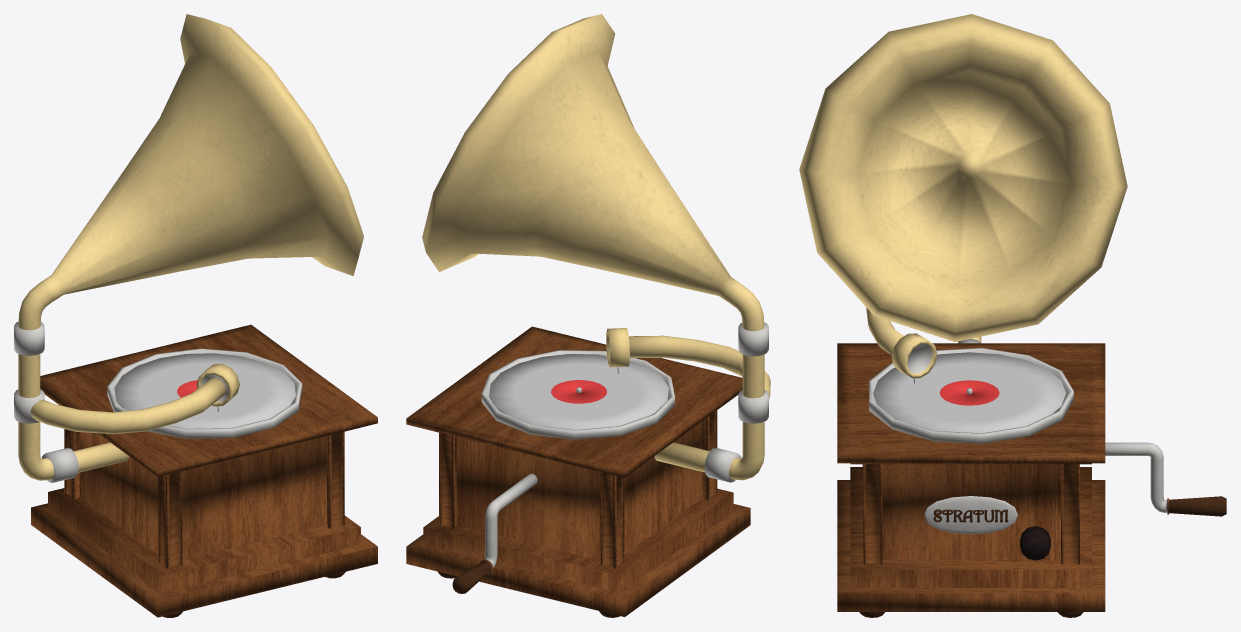
Rendered from Gramofono_Prueba_Cel_Shading.fbx.
3 renders of one model, left to right at view 1: azimuth 30°, elevation 25°; view 2: azimuth 150°, elevation 25°; view 3: azimuth 270°, elevation 25°, orthographic. The views are drawn at different scales.
Parts seen in each view (by area): view 1: Campana, Base, Vinilo, Tubo_Aguja, Soporte_Vinilo, Pilar_1.003, Pilar_1, Soporte_aguja, Union_up, Union_Down, Pilar_1.002, Union_Central; view 2: Campana, Base, Vinilo, Soporte_Vinilo, Tubo_Aguja, Pilar_1.002, Manivela, Pilar_1.001, Soporte_aguja, Pilar_1.003, Union_up, Union_Central (+1 smaller); view 3: Campana, Base, Vinilo, Soporte_Vinilo, Manivela, Chapa, Pilar_1, Pilar_1.001, Soporte_aguja, Rueda_Volumen, Tubo_Aguja, Text.004.
Part boxes in pixels (<box>): Campana: <box>18,14,363,480</box>; Base: <box>31,324,377,617</box>; Vinilo: <box>114,353,295,428</box>; Tubo_Aguja: <box>30,378,225,434</box>; Soporte_Vinilo: <box>107,348,302,438</box>; Pilar_1.003: <box>158,471,182,568</box>; Pilar_1: <box>327,431,344,528</box>; Soporte_aguja: <box>196,363,239,406</box>; Union_up: <box>14,321,44,355</box>; Union_Down: <box>41,448,78,482</box>; Pilar_1.002: <box>64,429,79,499</box>; Union_Central: <box>14,389,44,423</box>; Campana: <box>422,14,764,480</box>; Base: <box>406,326,750,616</box>; Vinilo: <box>489,354,668,429</box>; Soporte_Vinilo: <box>481,350,674,439</box>; Tubo_Aguja: <box>629,335,770,398</box>; Pilar_1.002: <box>600,472,624,568</box>; Manivela: <box>452,473,537,593</box>; Pilar_1.001: <box>439,432,456,529</box>; Soporte_aguja: <box>606,328,629,367</box>; Pilar_1.003: <box>702,410,717,500</box>; Union_up: <box>738,322,768,356</box>; Union_Central: <box>738,390,768,423</box>; Campana: <box>799,14,1127,342</box>; Base: <box>837,343,1105,611</box>; Vinilo: <box>873,352,1065,433</box>; Soporte_Vinilo: <box>869,348,1073,443</box>; Manivela: <box>1105,442,1226,516</box>; Chapa: <box>924,496,1017,534</box>; Pilar_1: <box>863,464,882,564</box>; Pilar_1.001: <box>1061,464,1079,564</box>; Soporte_aguja: <box>891,333,937,378</box>; Rueda_Volumen: <box>1020,526,1050,560</box>; Tubo_Aguja: <box>866,307,903,355</box>; Text.004: <box>933,509,1008,522</box>.
Bounding box in the file's own units: 400 × 657 × 452.
